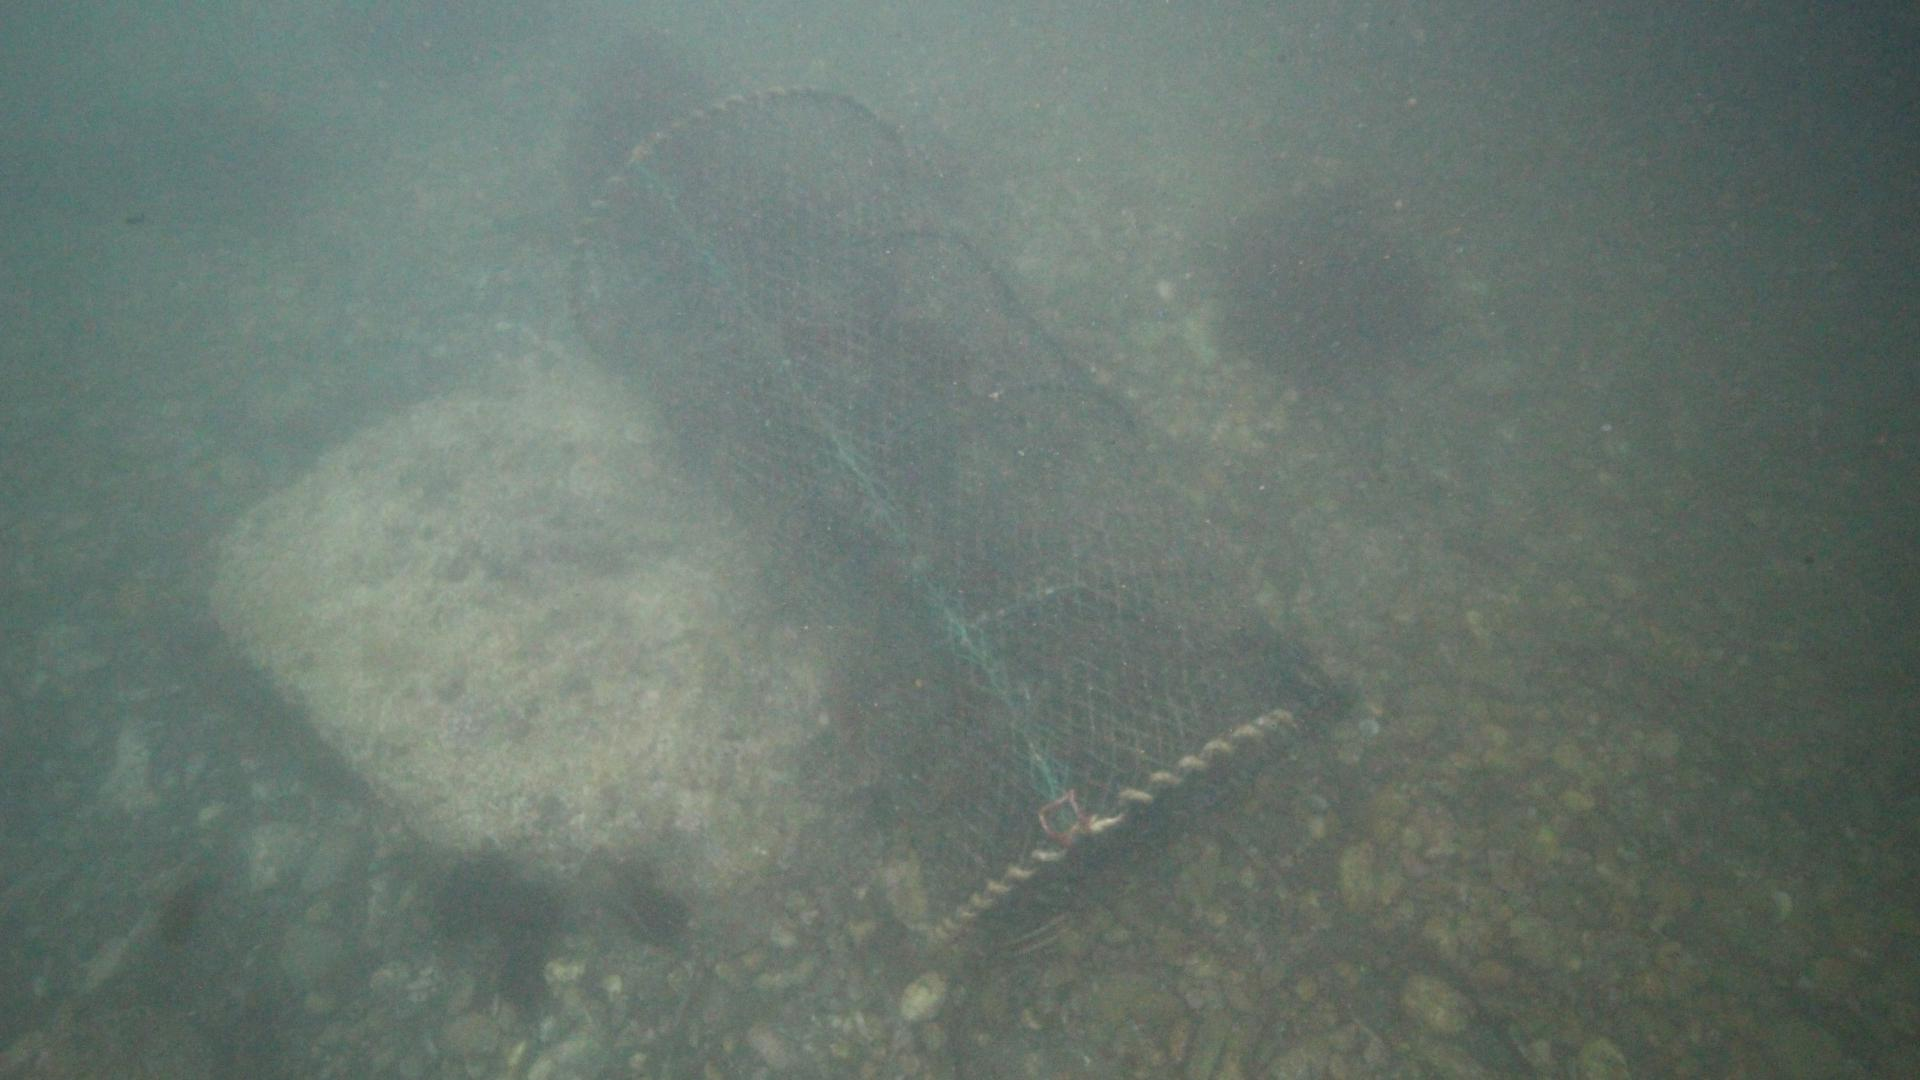spring fish trap: (562, 82, 1317, 963)
